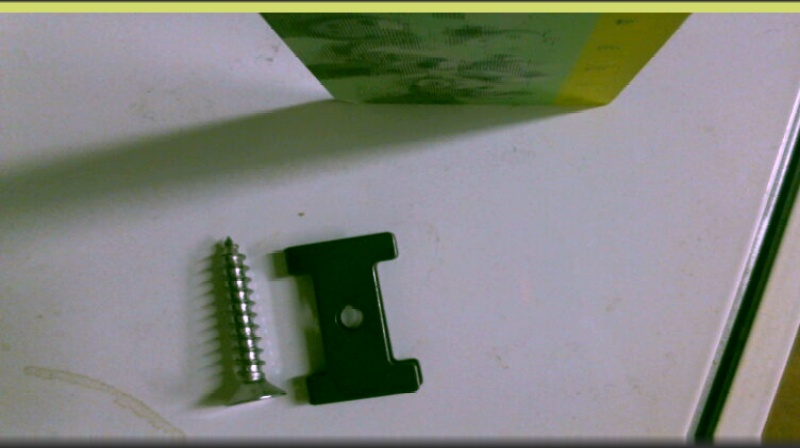O002: (284, 234, 421, 406)
S001: (215, 225, 285, 409)
